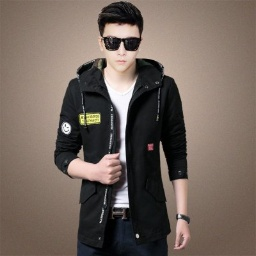face: (98, 1, 145, 71)
